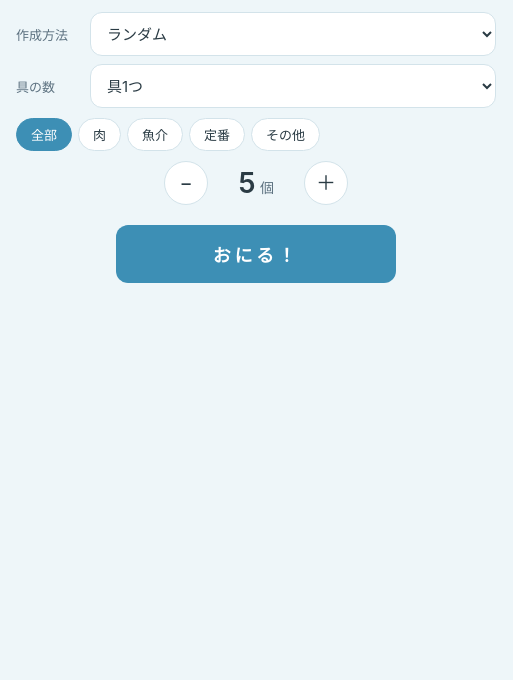
Test: LotteryScreen › 「おにる！」押下で5組が番号付きで表示される
The width and height of the screenshot is (513, 680).
Click the button "おにる！" at [256, 254], box [116,225,396,283]
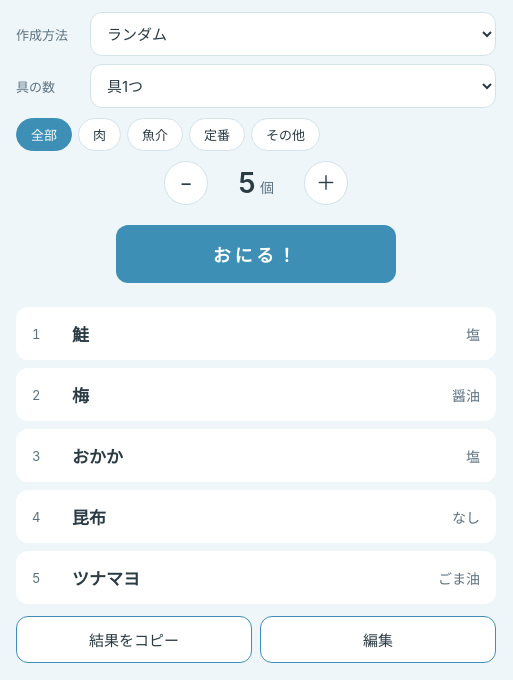
Check: the number of list items is 5, box [16,307,496,360]; [16,368,496,421]; [16,429,496,482]; [16,490,496,543]; [16,551,496,604]
Check: the list item "1 鮭 塩" is shown, box [16,307,496,360]
Check: the list item "5 ツナマヨ ごま油" is shown, box [16,551,496,604]
